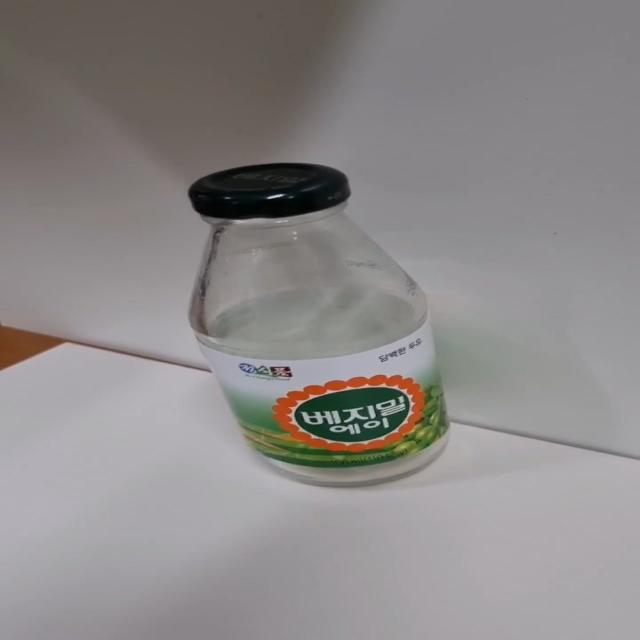Glass: (187, 163, 450, 490)
